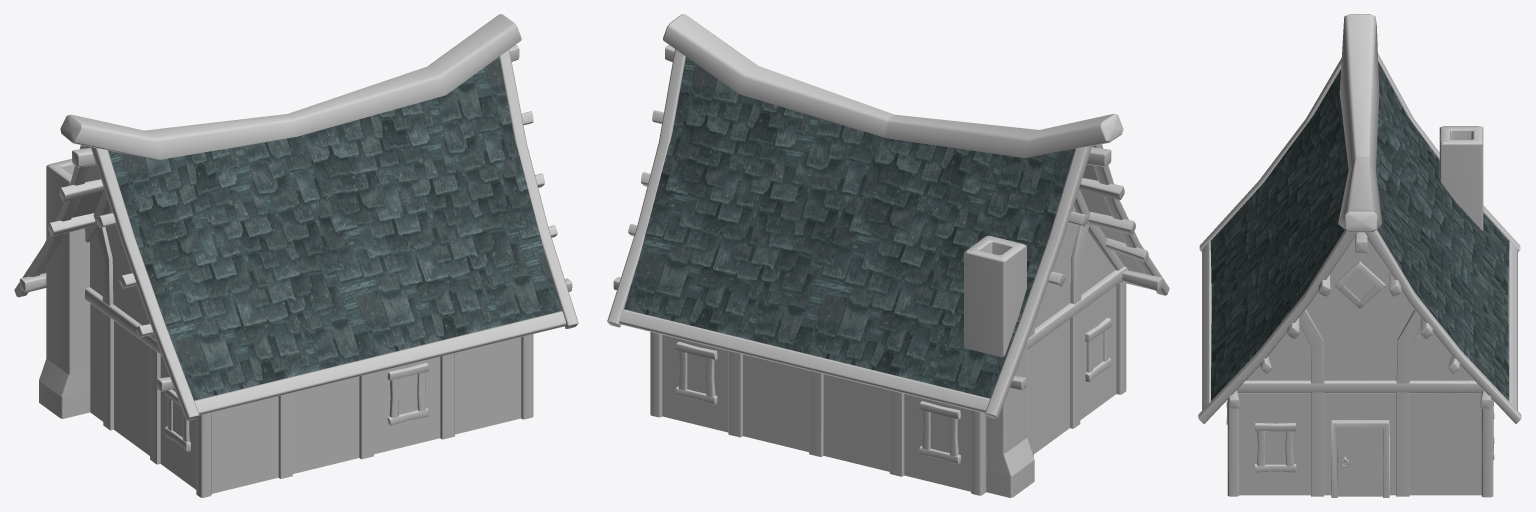
The model's file is house19.fbx.
3 views of the same model, side by side, from view 1: azimuth 30°, elevation 25°; view 2: azimuth 150°, elevation 25°; view 3: azimuth 270°, elevation 25° (orthographic). The views are drawn at different scales.
Visible parts, largest first — view 1: house19; view 2: house19; view 3: house19.
Part boxes in pixels (x1,y1,x2,y2): house19: (14,14,578,497); house19: (607,14,1169,497); house19: (1198,14,1521,497).
Size of the model in its own units: 1318 by 949 by 896.
